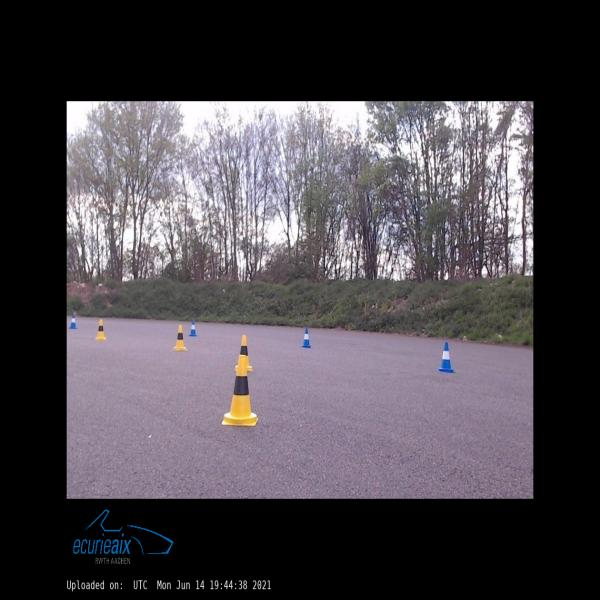blue_cone: (438, 342, 456, 373), (301, 328, 311, 348), (189, 321, 197, 336), (70, 312, 76, 328)
yellow_cone: (222, 355, 258, 426), (235, 335, 253, 371), (173, 324, 187, 351), (95, 319, 106, 340)
